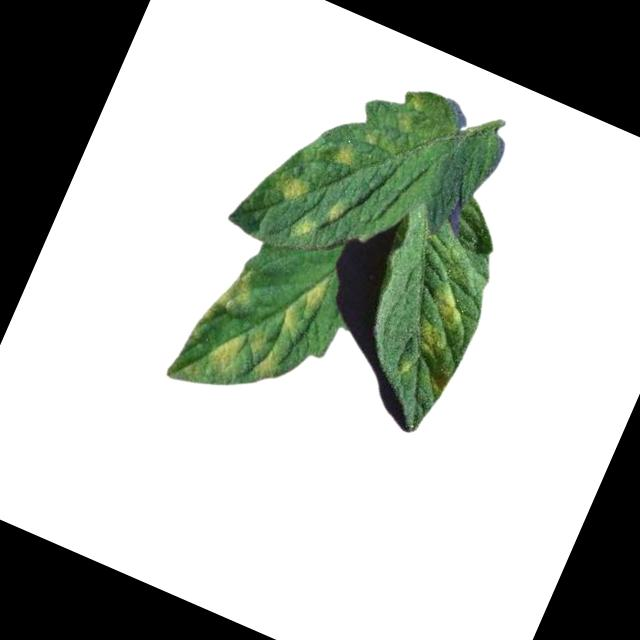Leaf_Mold: (206, 320, 286, 392), (198, 257, 263, 334), (408, 282, 469, 364), (278, 269, 331, 339), (325, 138, 365, 176), (281, 171, 313, 206), (288, 213, 318, 242), (326, 200, 349, 228)
